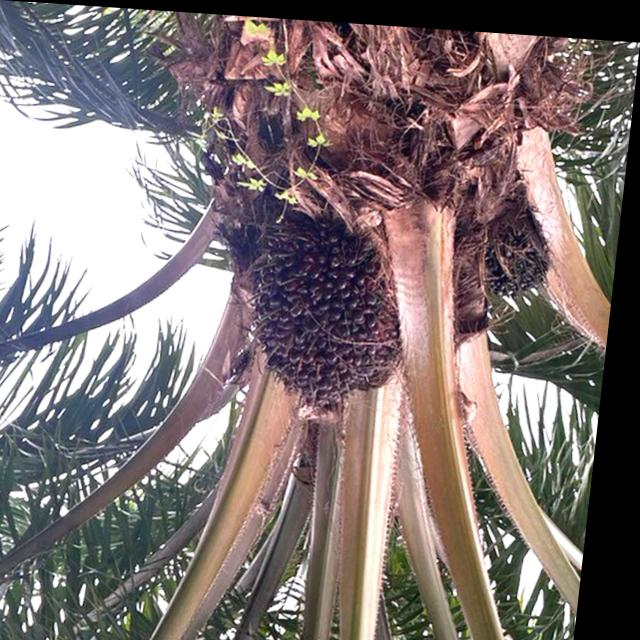ripe: (227, 197, 432, 431)
